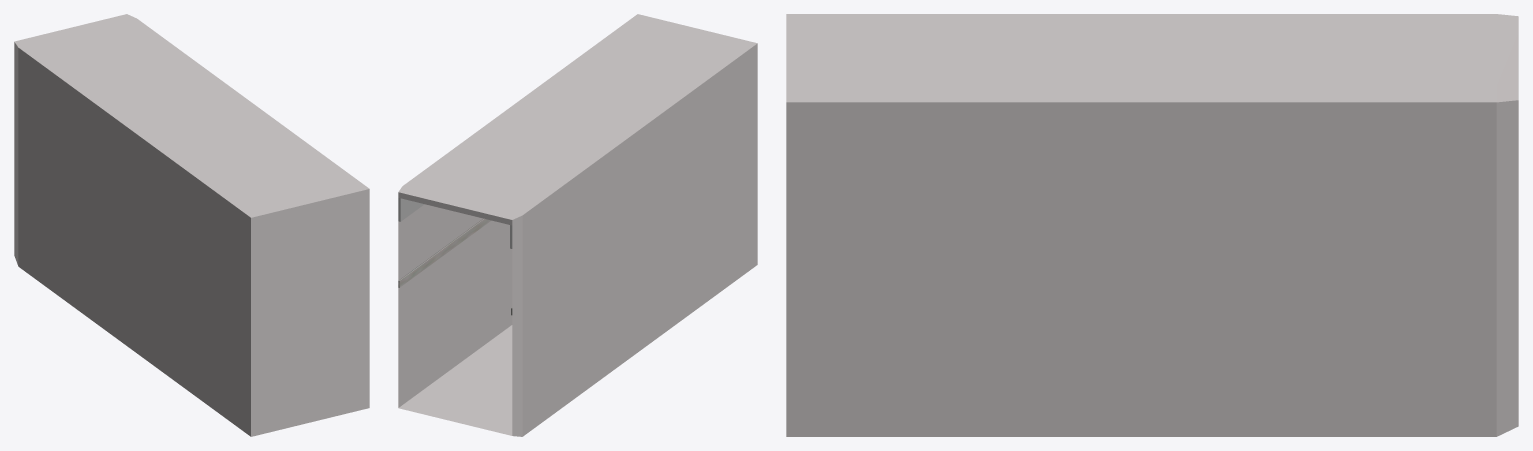
Rendered from semi_trailer.obj.
The picture shows the model from 3 angles, left to right: view 1: azimuth 30°, elevation 25°; view 2: azimuth 150°, elevation 25°; view 3: azimuth 270°, elevation 25°; orthographic projection. The views are drawn at different scales.
Size of the model in its own units: 1.02 by 1.8 by 3.57.
Materials: 8 (4 with a texture image).
